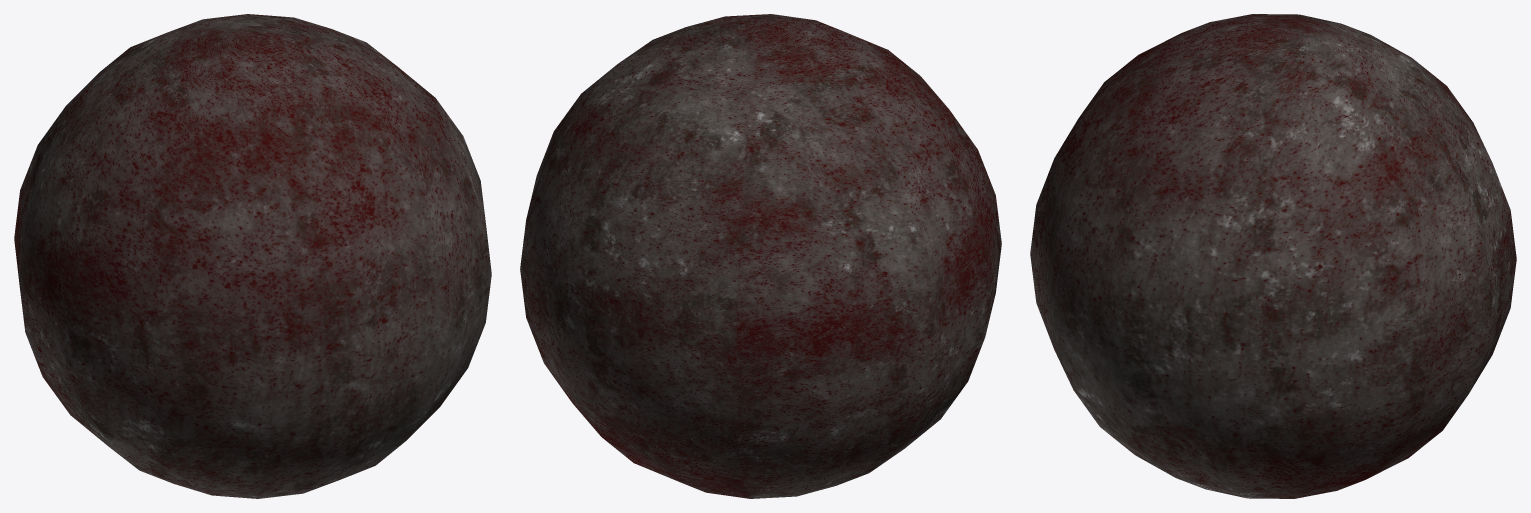
The model's file is ball_01.fbx.
3 views of the same model, side by side, from view 1: azimuth 30°, elevation 25°; view 2: azimuth 150°, elevation 25°; view 3: azimuth 270°, elevation 25° (orthographic).
Visible parts, largest first — view 1: ball_01; view 2: ball_01; view 3: ball_01.
Part boxes in pixels (x1,y1,x2,y2): ball_01: [14, 14, 491, 498]; ball_01: [520, 14, 1001, 498]; ball_01: [1030, 14, 1516, 498].
Bounding box in the file's own units: 1.84 × 1.88 × 1.88.
1 material, 1 textured.
